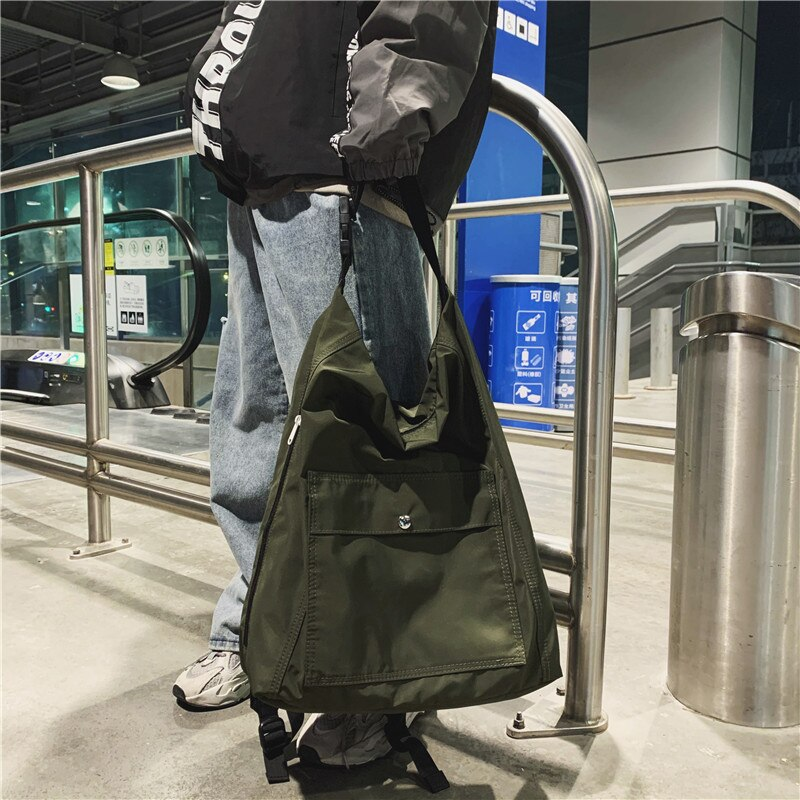Bottoms|Pants: (208, 187, 350, 648)
Men's Backpacks: (234, 193, 562, 800)
Shoes: (170, 645, 249, 713)
Tops: (190, 1, 500, 233)
